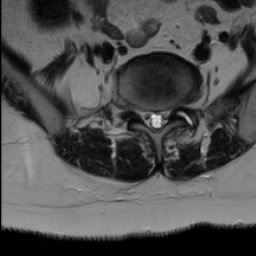CCS_stenosis: (151, 102, 161, 137)
LFS_severe_stenosis: (171, 96, 180, 117)
LLS_normal: (161, 102, 171, 130)
RFS_stenosis: (129, 95, 140, 121)
RLS_normal: (140, 102, 151, 128)
